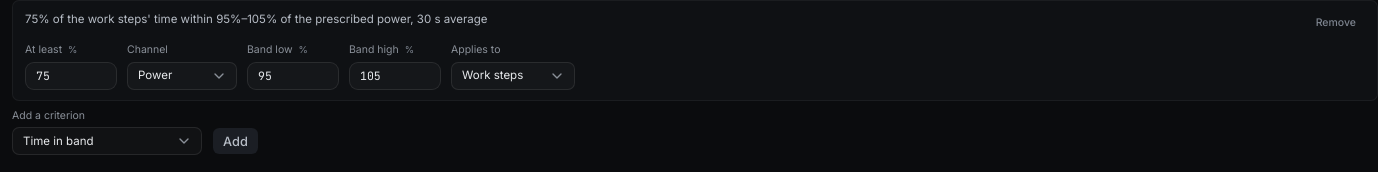
it: CriteriaEditor › edits the numbers behind the sentence, and the sentence follows
Replace the text in the field labelled "At least %" with "90" at point(71, 76), box [25, 62, 117, 90]
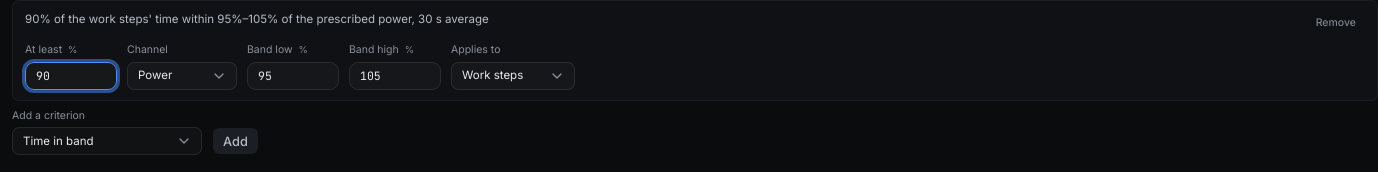
Now the text "90% of the work steps' time within 95%–105% of the prescribed power, 30 s average" is shown, box [25, 12, 489, 26]
